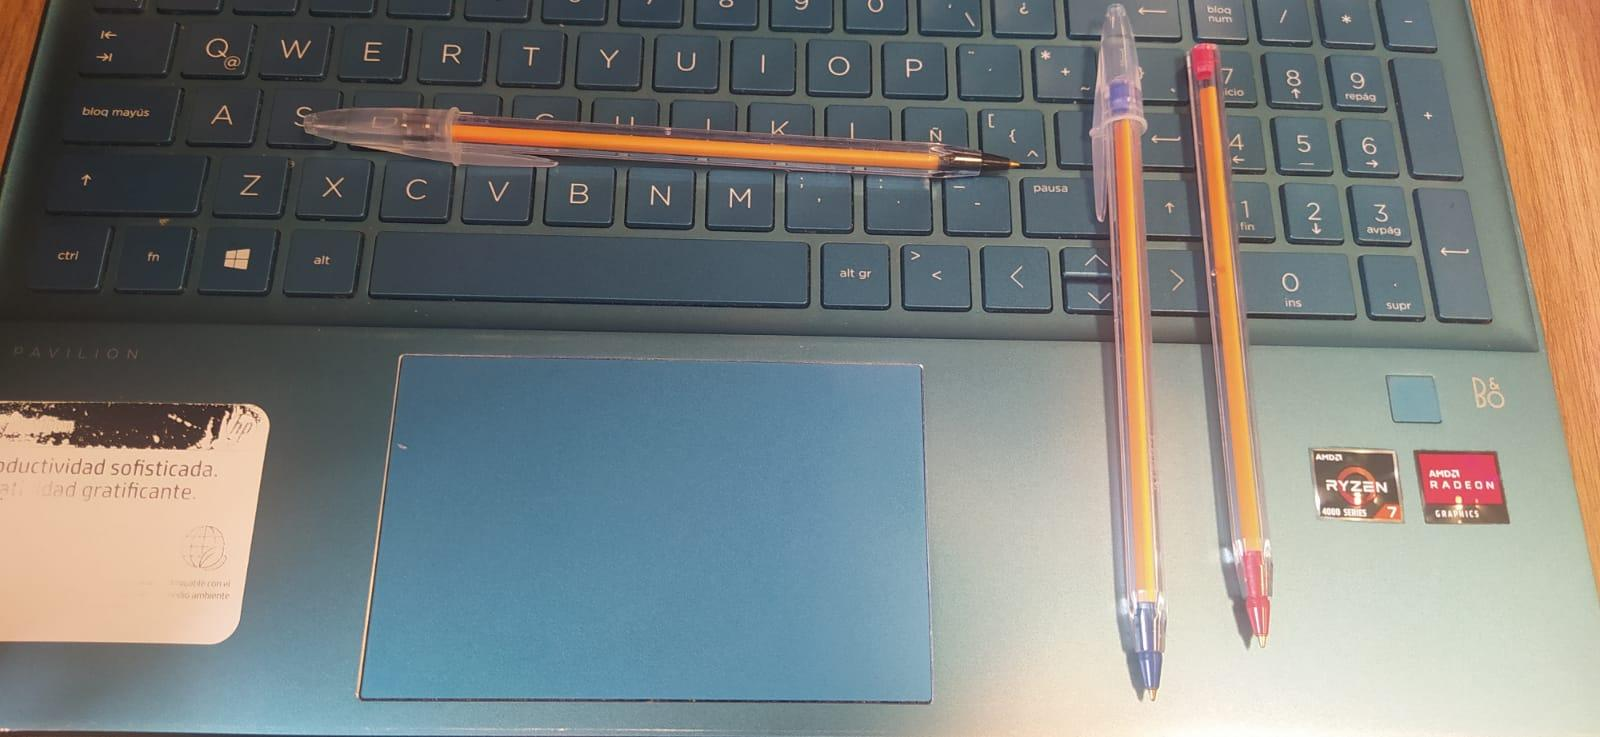pen: (1186, 43, 1284, 653), (1092, 6, 1171, 706), (303, 104, 1026, 179)
